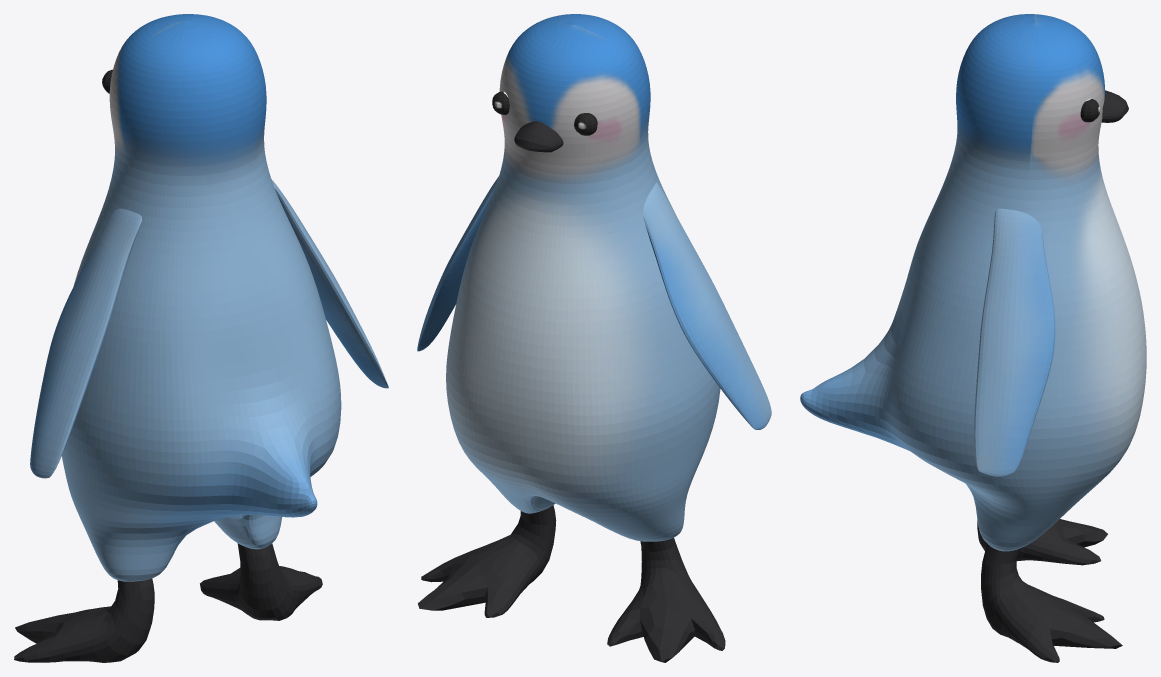
File: Pen_b.glb
3 renders of one model, left to right at view 1: azimuth 30°, elevation 25°; view 2: azimuth 150°, elevation 25°; view 3: azimuth 270°, elevation 25°, orthographic. The views are drawn at different scales.
Parts seen in each view (by area): view 1: back_sample_mesh.003; view 2: back_sample_mesh.003; view 3: back_sample_mesh.003.
Boxes of the visible parts, left/top/right/bottom form: back_sample_mesh.003: left=14, top=14, right=388, bottom=662; back_sample_mesh.003: left=417, top=14, right=771, bottom=662; back_sample_mesh.003: left=800, top=14, right=1146, bottom=662.
Bounding box in the file's own units: 4.3 × 7.1 × 3.87.
Materials: 1 (1 with a texture image).
